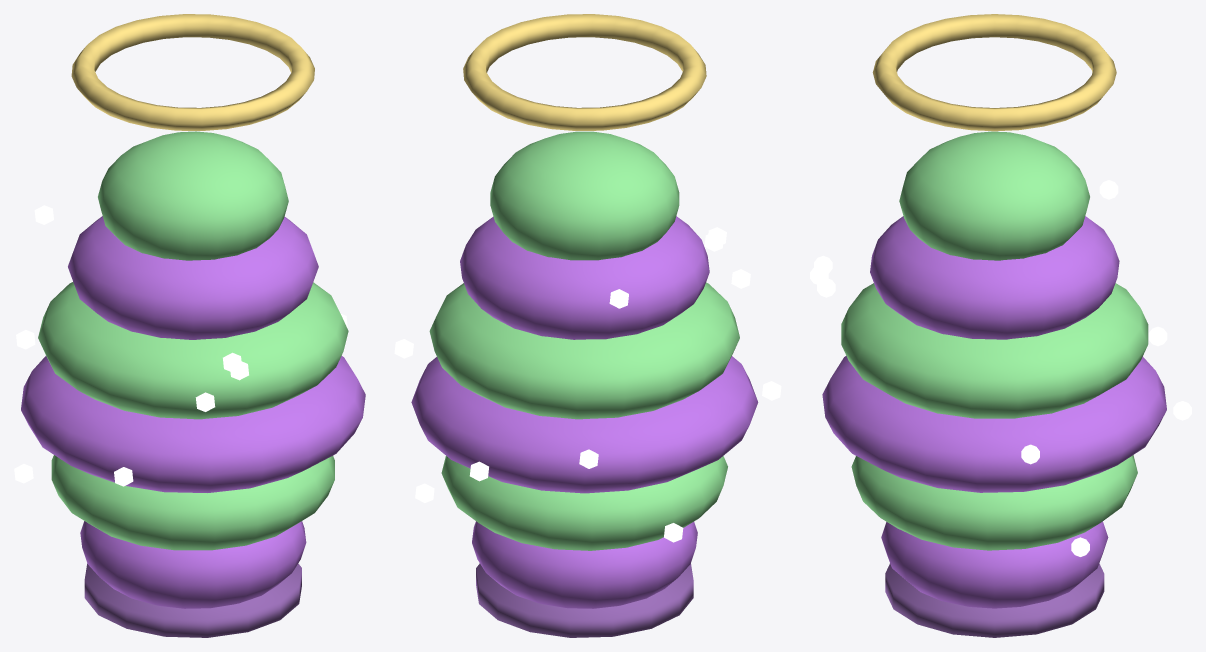
File: egg_alien_05.glb
The picture shows the model from 3 angles, left to right: view 1: azimuth 30°, elevation 25°; view 2: azimuth 150°, elevation 25°; view 3: azimuth 270°, elevation 25°; orthographic projection.
Visible parts, largest first — view 1: ball; view 2: ball; view 3: ball.
Part boxes in pixels (x1,y1,x2,y2): ball: [14, 14, 365, 637]; ball: [394, 14, 781, 637]; ball: [810, 14, 1191, 637].
Bounding box in the file's own units: 0.7426 × 1.17 × 0.767.
